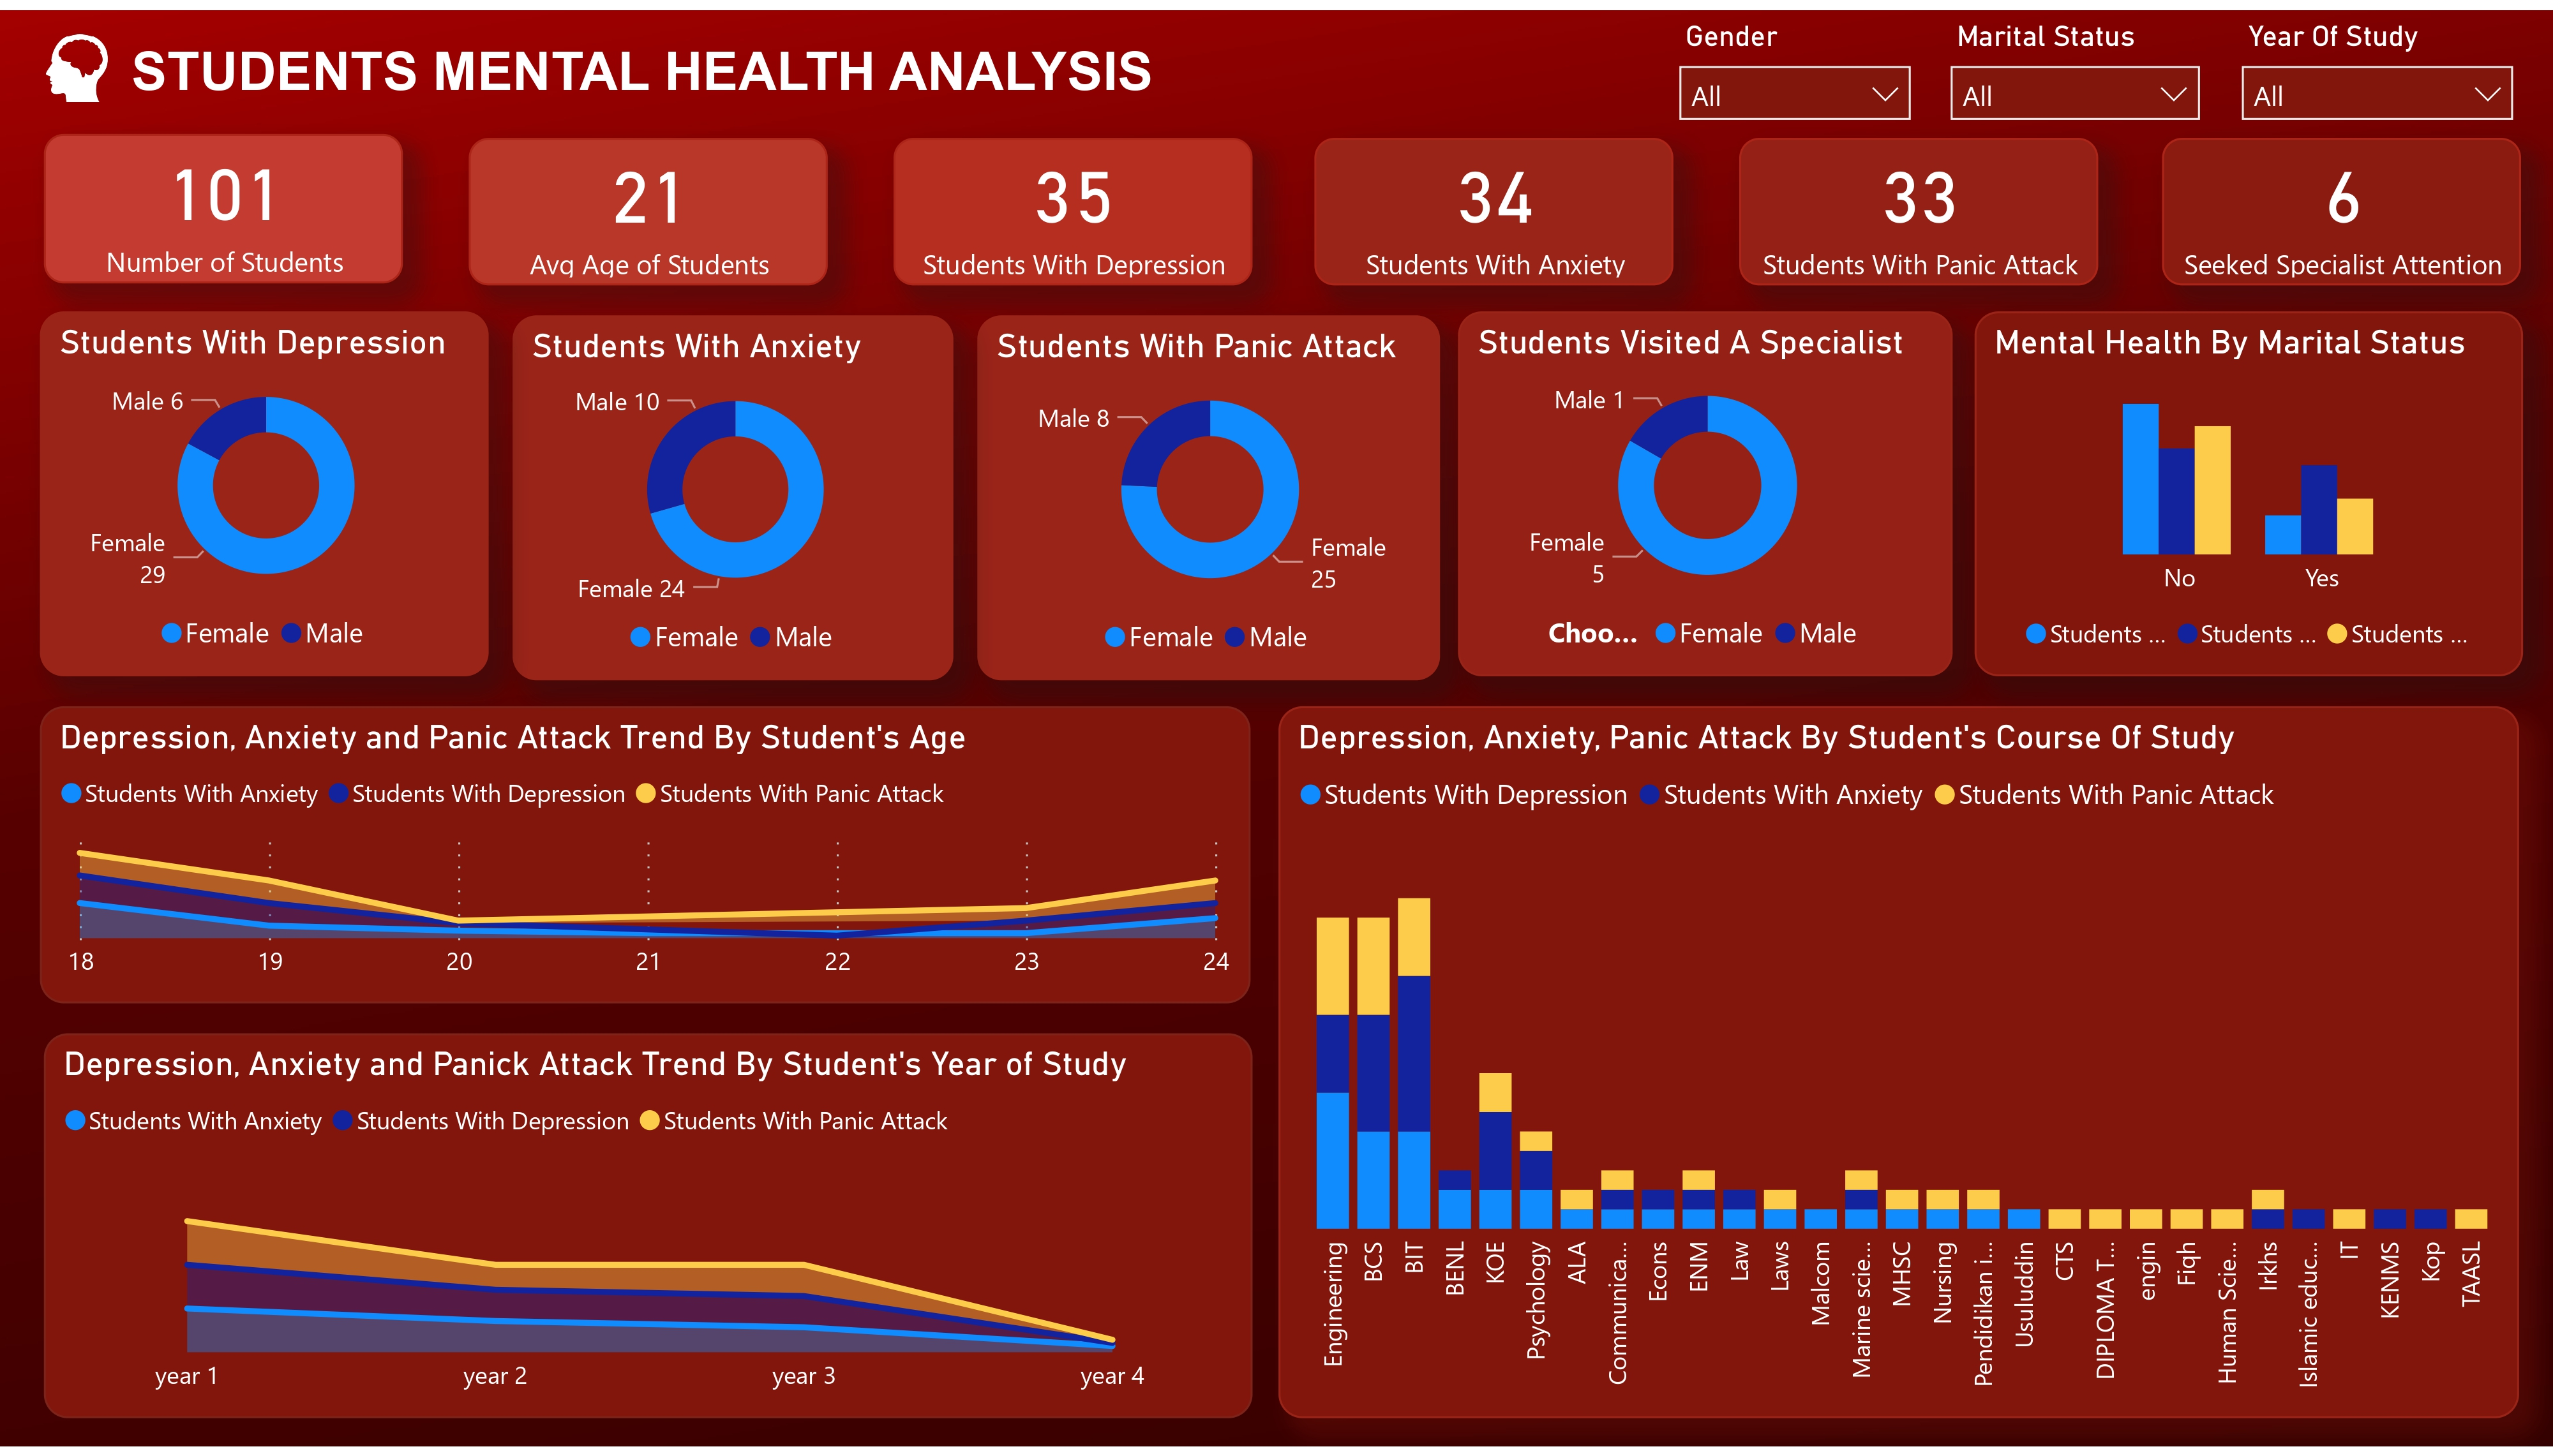

This screenshot's page, from the dashboard's own definition file:
{"tool":"powerbi","page":{"name":"REPORT","canvas":[1280,720],"ordinal":0},"visuals":[{"type":"textbox","box":[60.9,11.3,612.3,45.4],"z":0},{"type":"card","fields":{"Values":["DAX.Number of Students"]},"box":[21.8,62.1,179.5,75.5],"z":1000},{"type":"card","fields":{"Values":["DAX.Avg Age of Students"]},"box":[234.9,63.7,179.5,73.8],"z":2000},{"type":"card","fields":{"Values":["DAX.Students With Depression"]},"box":[447.9,63.7,179.5,73.8],"z":3000},{"type":"card","fields":{"Values":["DAX.Students With Anxiety"]},"box":[659.3,63.7,179.5,73.8],"z":4000},{"type":"card","fields":{"Values":["DAX.Students With Panic Attack"]},"box":[872.3,63.7,179.5,73.8],"z":5000},{"type":"card","fields":{"Values":["DAX.Students Who Saw A Specialist"]},"box":[1083.7,63.7,179.5,73.8],"z":6000},{"type":"donutChart","title":"Students With Panic Attack ","fields":{"Category":["Student Mental health.Choose your gender"],"Y":["DAX.Students With Panic Attack"]},"box":[489.9,152.7,231.5,182.9],"z":7000},{"type":"donutChart","title":"Students Visited A Specialist ","fields":{"Y":["DAX.Seeked Specialist Attention"],"Series":["Student Mental health.Choose your gender"]},"box":[731.4,151,248.3,182.9],"z":8000},{"type":"columnChart","title":"Depression, Anxiety, Panic Attack By Student''s Course Of Study","fields":{"Category":["Student Mental health.What is your course?"],"Y":["DAX.Students With Depression","DAX.Students With Anxiety","DAX.Students With Panic Attack"]},"box":[640.8,348.9,622.4,357.3],"z":9000},{"type":"stackedAreaChart","title":"Depression, Anxiety and Panick Attack Trend By Student''s Year of Study","fields":{"Category":["Student Mental health.Your current year of Study"],"Y":["DAX.Students With Anxiety","DAX.Students With Depression","DAX.Students With Panic Attack"]},"box":[21.8,513.3,605.6,192.9],"z":10000},{"type":"donutChart","title":"Students With Anxiety","fields":{"Series":["Student Mental health.Choose your gender"],"Y":["DAX.Students With Anxiety"]},"box":[256.7,152.7,221.4,182.9],"z":11000},{"type":"donutChart","title":"Students With Depression","fields":{"Category":["Student Mental health.Choose your gender"],"Y":["DAX.Students With Depression"]},"box":[20.1,151,224.8,182.9],"z":12000},{"type":"clusteredColumnChart","title":"Mental Health By Marital Status","fields":{"Category":["Student Mental health.Marital status"],"Y":["DAX.Students With Anxiety","DAX.Students With Depression","DAX.Students With Panic Attack"]},"box":[989.8,151,275.1,182.9],"z":13000},{"type":"slicer","fields":{"Values":["Student Mental health.Choose your gender"]},"box":[832,0,136.1,62.4],"z":14000},{"type":"slicer","fields":{"Values":["Student Mental health.Marital status"]},"box":[968,0,144.6,62.4],"z":15000},{"type":"slicer","fields":{"Values":["Student Mental health.Your current year of Study"]},"box":[1114,0,155.9,62.4],"z":16000},{"type":"stackedAreaChart","title":"Depression, Anxiety and Panic Attack Trend By Student''s Age","fields":{"Y":["DAX.Students With Anxiety","DAX.Students With Depression","DAX.Students With Panic Attack"],"Category":["Student Mental health.Age"]},"box":[20.1,348.9,607.3,149.3],"z":17000},{"type":"image","box":[11.3,7.1,55.3,43.9],"z":18000}]}

Visuals, with their boxes in screenshot pixels (x1, y1, x2, y2), scaled from the page's 1280x720 canvas onto the 2553x1456 screenshot:
textbox: [x1=121, y1=23, x2=1343, y2=115]
card - DAX.Number of Students: [x1=43, y1=126, x2=401, y2=278]
card - DAX.Avg Age of Students: [x1=468, y1=129, x2=827, y2=278]
card - DAX.Students With Depression: [x1=894, y1=129, x2=1252, y2=278]
card - DAX.Students With Anxiety: [x1=1315, y1=129, x2=1673, y2=278]
card - DAX.Students With Panic Attack: [x1=1740, y1=129, x2=2098, y2=278]
card - DAX.Students Who Saw A Specialist: [x1=2162, y1=129, x2=2520, y2=278]
"Students With Panic Attack " donutChart: [x1=977, y1=309, x2=1439, y2=679]
"Students Visited A Specialist " donutChart: [x1=1459, y1=306, x2=1954, y2=675]
"Depression, Anxiety, Panic Attack By Student''s Course Of Study" columnChart: [x1=1278, y1=706, x2=2519, y2=1428]
"Depression, Anxiety and Panick Attack Trend By Student''s Year of Study" stackedAreaChart: [x1=43, y1=1038, x2=1252, y2=1428]
"Students With Anxiety" donutChart: [x1=512, y1=309, x2=954, y2=679]
"Students With Depression" donutChart: [x1=40, y1=306, x2=488, y2=675]
"Mental Health By Marital Status" clusteredColumnChart: [x1=1974, y1=306, x2=2523, y2=675]
slicer - Student Mental health.Choose your gender: [x1=1659, y1=0, x2=1931, y2=126]
slicer - Student Mental health.Marital status: [x1=1931, y1=0, x2=2219, y2=126]
slicer - Student Mental health.Your current year of Study: [x1=2222, y1=0, x2=2533, y2=126]
"Depression, Anxiety and Panic Attack Trend By Student''s Age" stackedAreaChart: [x1=40, y1=706, x2=1252, y2=1007]
image: [x1=22, y1=15, x2=133, y2=103]
